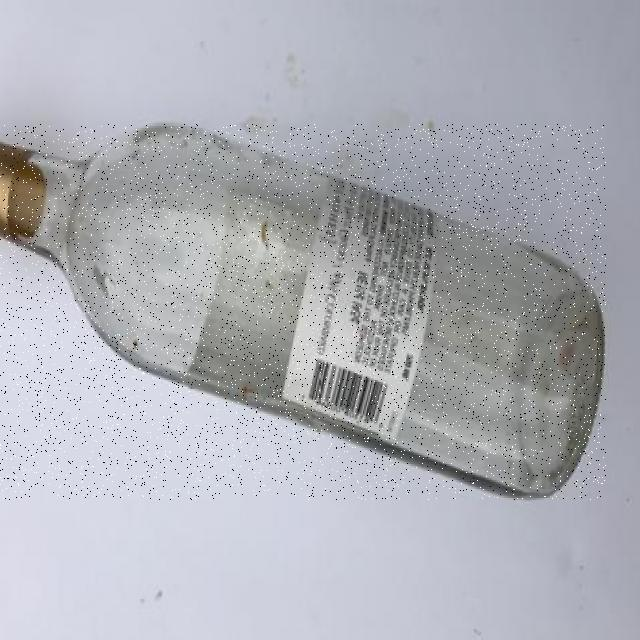glass: (0, 124, 606, 499)
